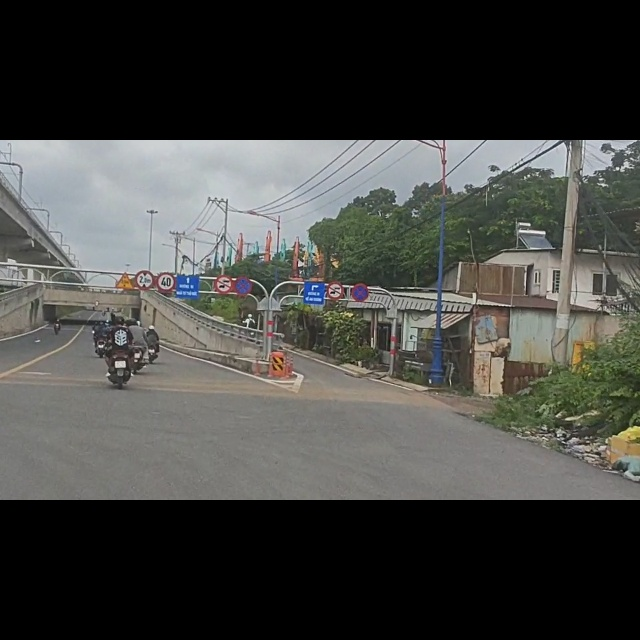bien_cam: (135, 231, 155, 268), (214, 239, 234, 275), (115, 233, 134, 267), (157, 235, 175, 270), (351, 255, 370, 288), (235, 243, 252, 279), (326, 251, 344, 284)
